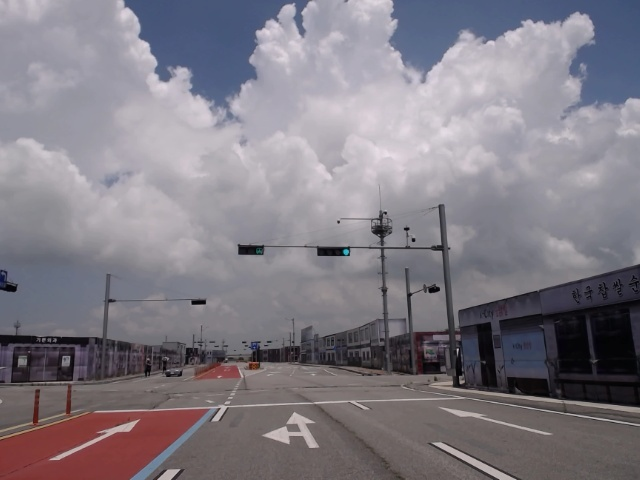straight_green_4: (317, 246, 350, 256)
